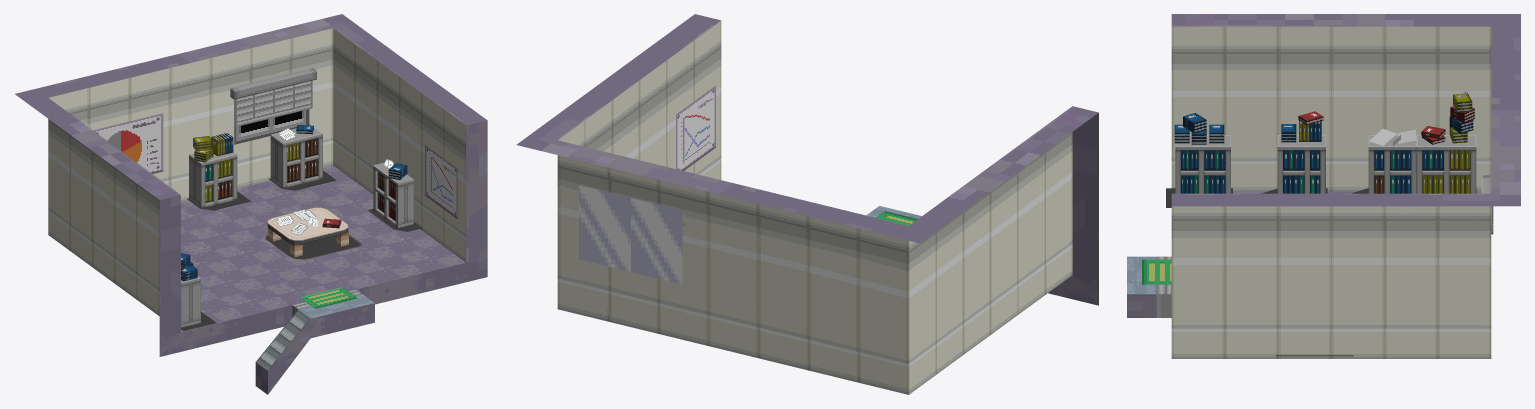
Rendered from ROOM8.obj.
The picture shows the model from 3 angles, left to right: view 1: azimuth 30°, elevation 25°; view 2: azimuth 150°, elevation 25°; view 3: azimuth 270°, elevation 25°; orthographic projection. The views are drawn at different scales.
Visible parts, largest first — view 1: polygon0, polygon1, polygon12, polygon15, polygon18, polygon14, polygon11, polygon16, polygon2, polygon22, polygon13, polygon7 (+7 smaller); view 2: polygon0, polygon1, polygon17, polygon16; view 3: polygon0, polygon1, polygon12, polygon5, polygon7, polygon6, polygon20, polygon19, polygon10, polygon21, polygon4, polygon8 (+1 smaller).
Boxes of the visible parts, <box> form: polygon0: <box>48,28,465,316</box>; polygon1: <box>15,14,487,394</box>; polygon12: <box>181,68,413,327</box>; polygon15: <box>93,113,163,173</box>; polygon18: <box>235,80,312,126</box>; polygon14: <box>181,170,422,330</box>; polygon11: <box>267,207,348,256</box>; polygon16: <box>425,145,457,218</box>; polygon2: <box>234,99,309,144</box>; polygon22: <box>256,310,310,370</box>; polygon13: <box>218,138,384,199</box>; polygon7: <box>196,139,299,202</box>; polygon0: <box>557,21,1072,394</box>; polygon1: <box>516,14,1098,305</box>; polygon17: <box>579,185,682,284</box>; polygon16: <box>676,86,715,170</box>; polygon0: <box>1171,26,1491,358</box>; polygon1: <box>1127,14,1520,317</box>; polygon12: <box>1175,135,1493,234</box>; polygon5: <box>1181,116,1460,193</box>; polygon7: <box>1299,95,1470,193</box>; polygon6: <box>1174,113,1473,144</box>; polygon20: <box>1127,256,1156,294</box>; polygon19: <box>1142,259,1171,284</box>; polygon10: <box>1298,106,1474,144</box>; polygon21: <box>1156,256,1171,317</box>; polygon4: <box>1369,91,1466,146</box>; polygon8: <box>1299,93,1472,143</box>.
Size of the model in its own units: 3.83 by 2.27 by 3.31.
